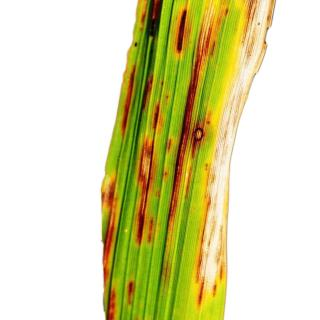Bercak-Cokelat-Sempit: (125, 98, 186, 258), (106, 165, 123, 317), (118, 59, 144, 131), (174, 8, 196, 58)
